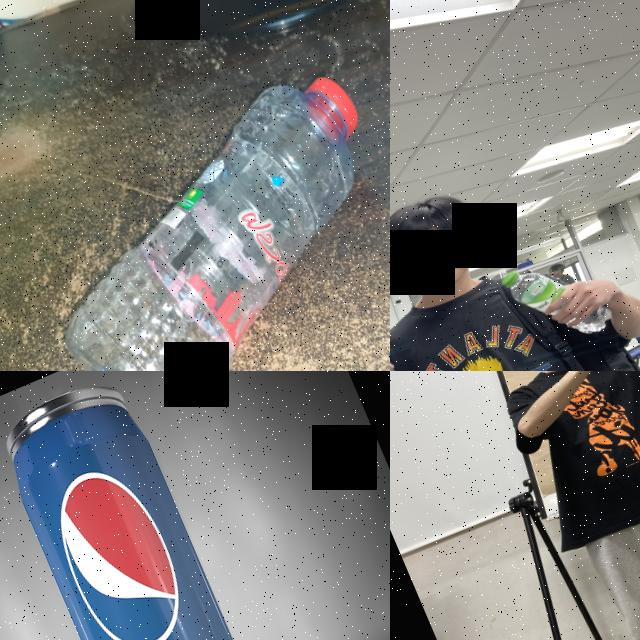bottle: (0, 43, 390, 371), (498, 241, 619, 362)
can: (0, 371, 329, 640)
